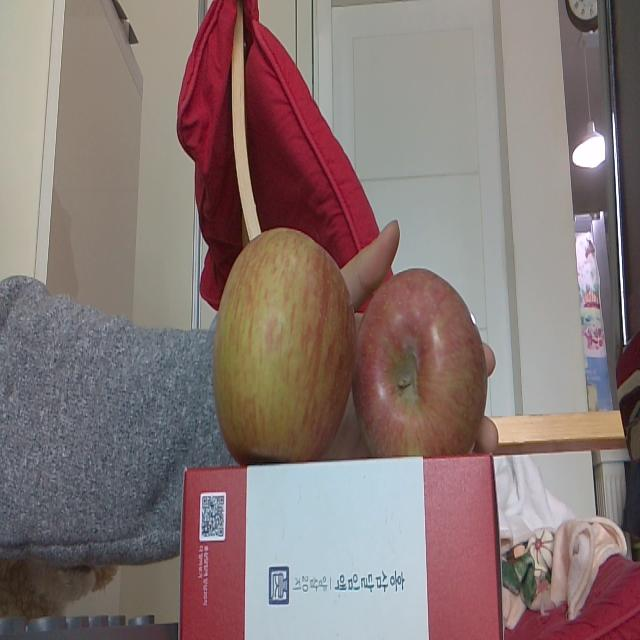apple: (213, 221, 357, 467), (358, 262, 489, 456)
